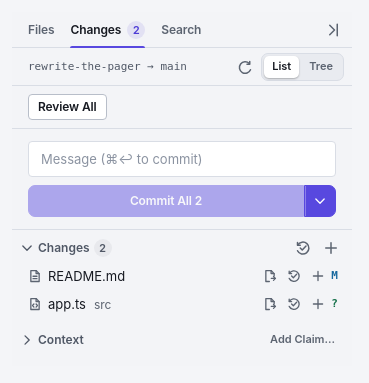
Scenario: the rail › folds on Hide panel and unfolds on Show panel, keeping the tab
The image size is (369, 383).
Step 1. Click the button named "Hide panel" → click(332, 30), box [320,18,344,42]
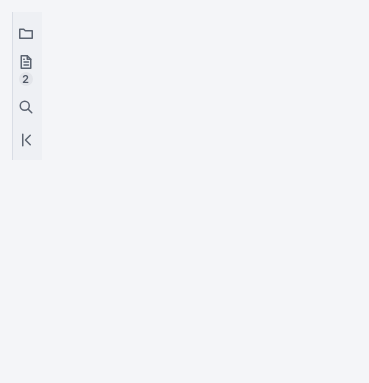
Step 2. Click the button named "Show panel" → click(28, 140), box [16,128,40,152]
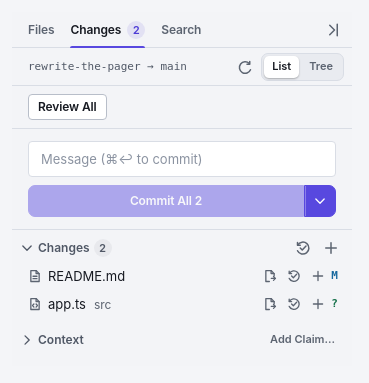
Check: the element named "Changes in this worktree" is shown
